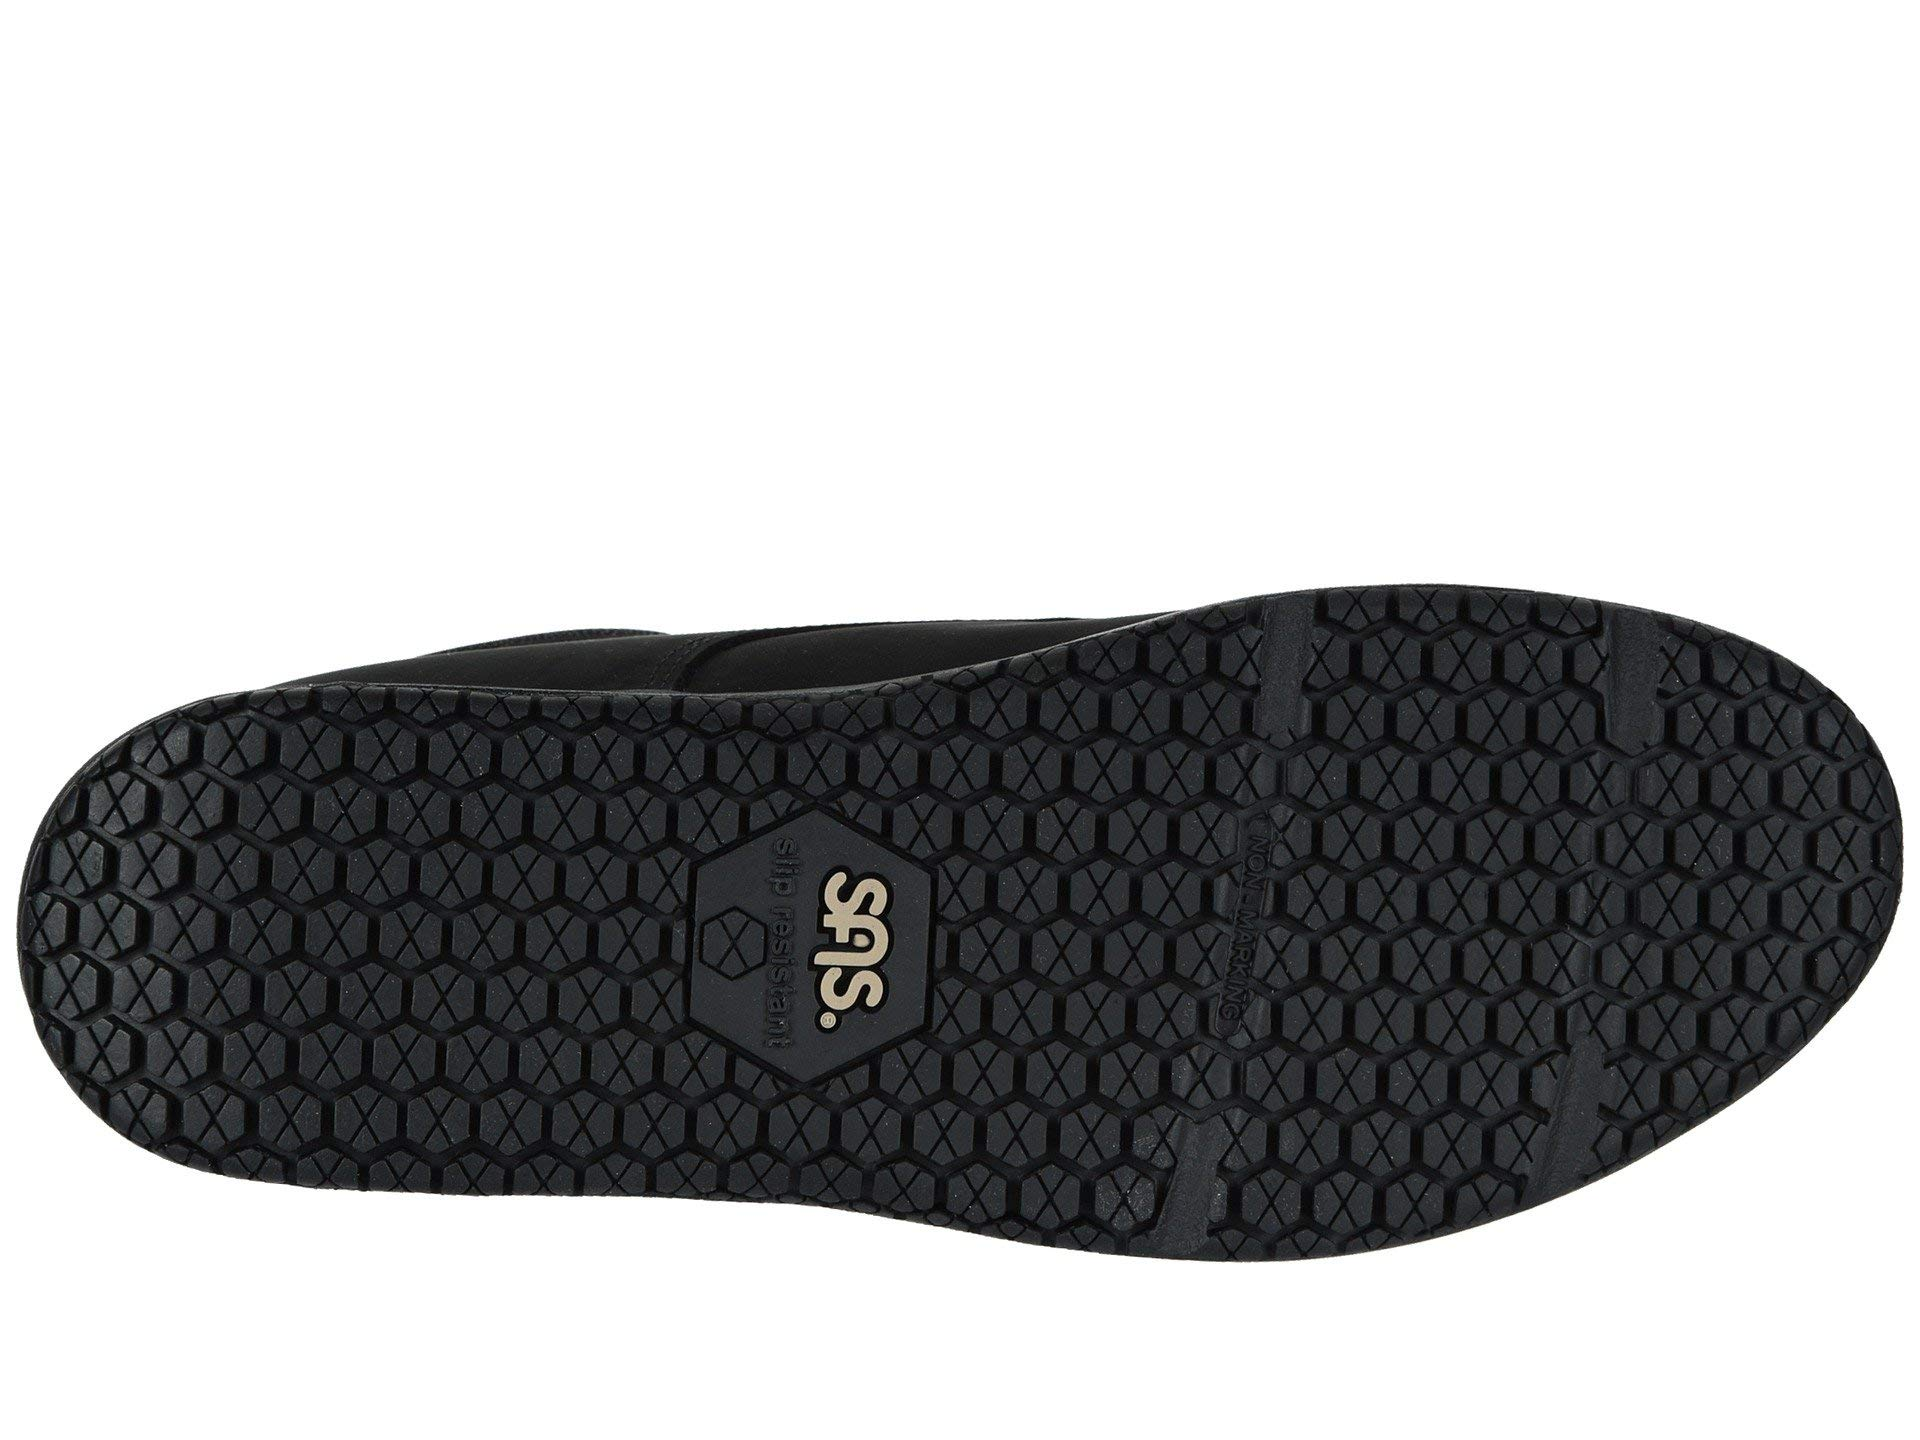polygon: (195, 750, 618, 1150)
quad: (195, 750, 618, 1150)
